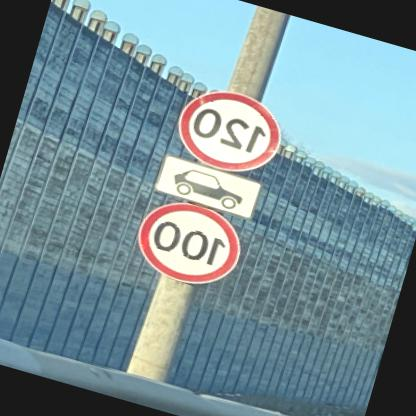speedlimit: (170, 80, 291, 182), (132, 192, 252, 294)
